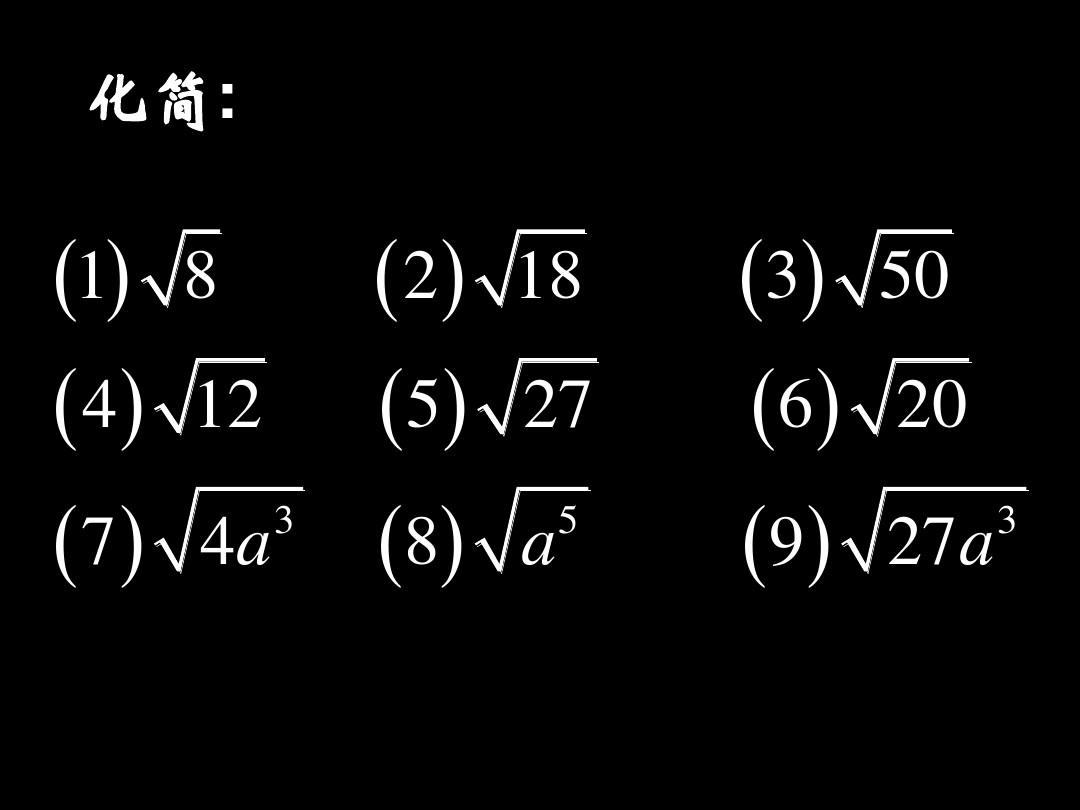cube: (275, 501, 300, 540), (1000, 503, 1018, 536)
sqrt: (838, 482, 1036, 582), (152, 476, 305, 577), (471, 478, 595, 578), (830, 222, 953, 306), (473, 352, 593, 438), (153, 352, 271, 437), (850, 352, 969, 436), (473, 221, 587, 305), (148, 215, 217, 313)
